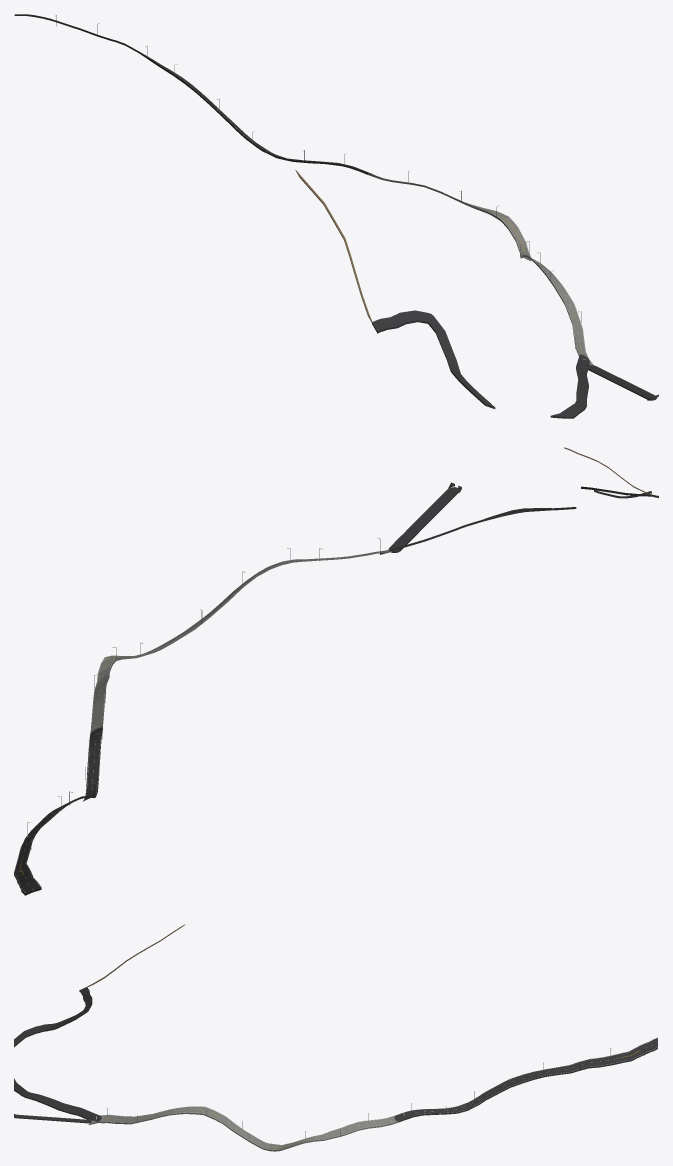
The picture shows the model from 3 angles, top to bottom: view 1: azimuth 30°, elevation 25°; view 2: azimuth 150°, elevation 25°; view 3: azimuth 270°, elevation 25°; orthographic projection. The views are drawn at different scales.
Size of the model in its own units: 207 by 133 by 584.
